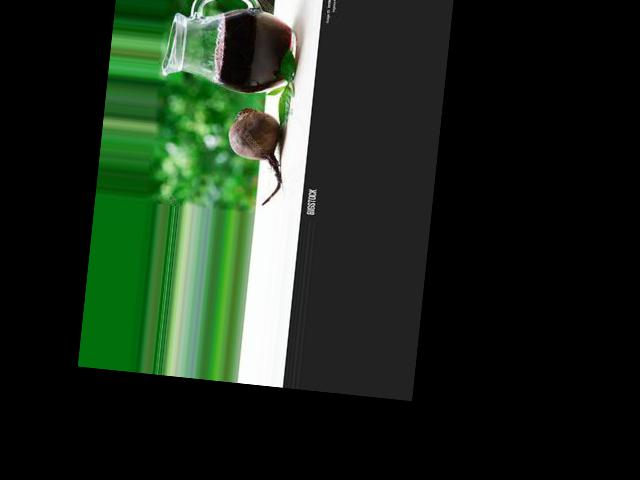beet: (222, 106, 289, 206)
